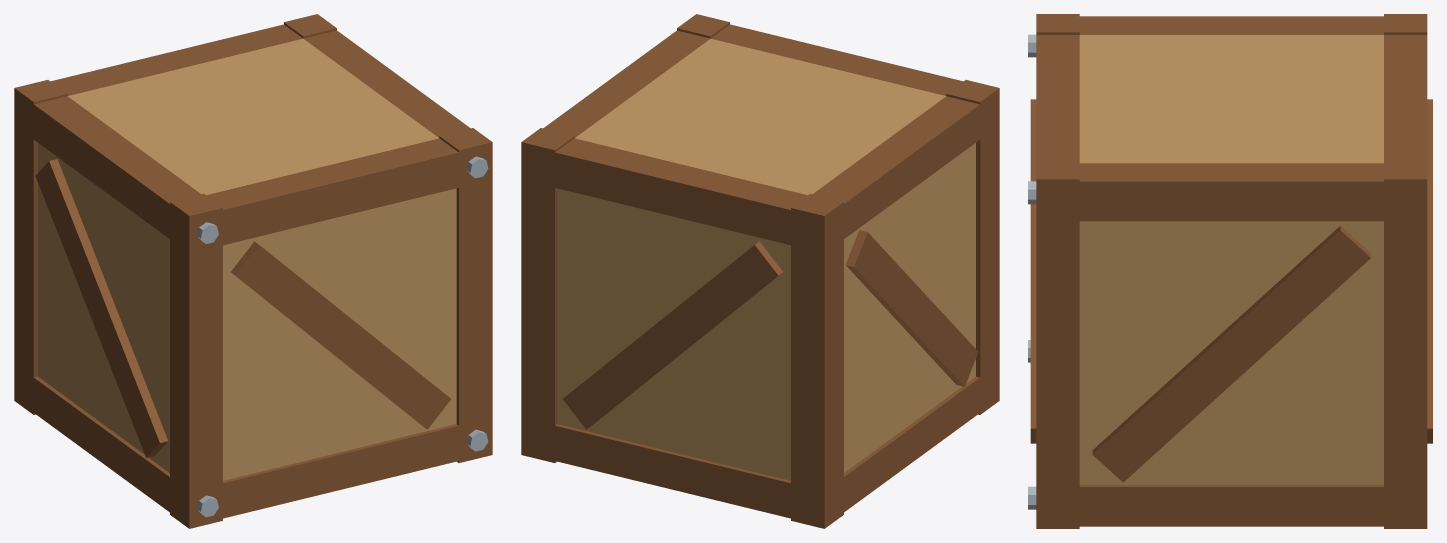
Rendered from crate-lod1.glb.
The picture shows the model from 3 angles, left to right: view 1: azimuth 30°, elevation 25°; view 2: azimuth 150°, elevation 25°; view 3: azimuth 270°, elevation 25°; orthographic projection. The views are drawn at different scales.
Parts seen in each view (by area): view 1: crate; view 2: crate; view 3: crate.
Boxes of the visible parts, left/top/right/bottom form: crate: left=14, top=14, right=492, bottom=528; crate: left=521, top=14, right=999, bottom=528; crate: left=1028, top=14, right=1432, bottom=528.
Size of the model in its own units: 0.74 by 0.71 by 0.745.
